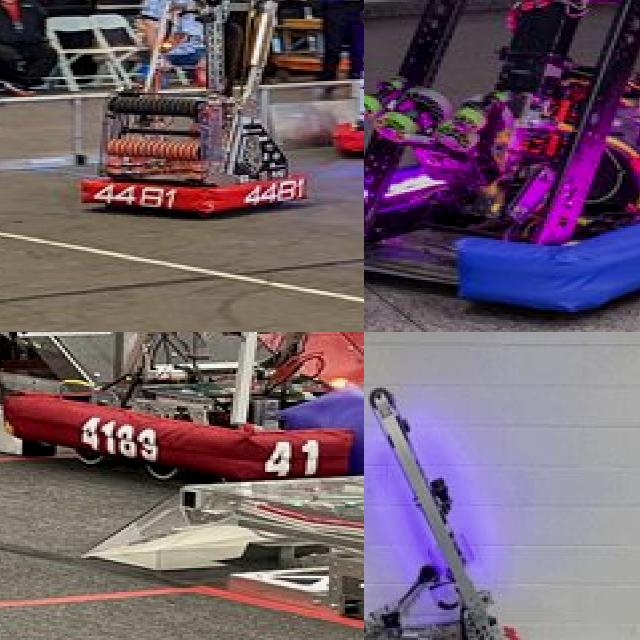FRC-Robots: (364, 0, 640, 332), (31, 0, 289, 268), (19, 332, 364, 511), (364, 366, 540, 640)
